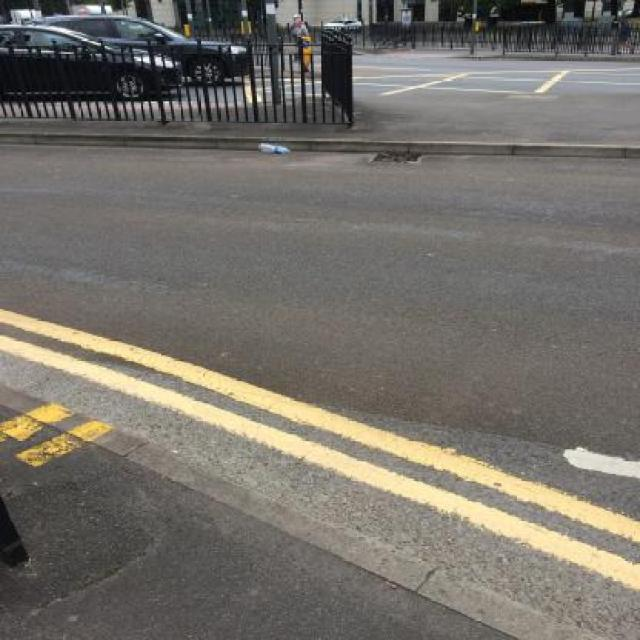plastic: (258, 144, 292, 153)
